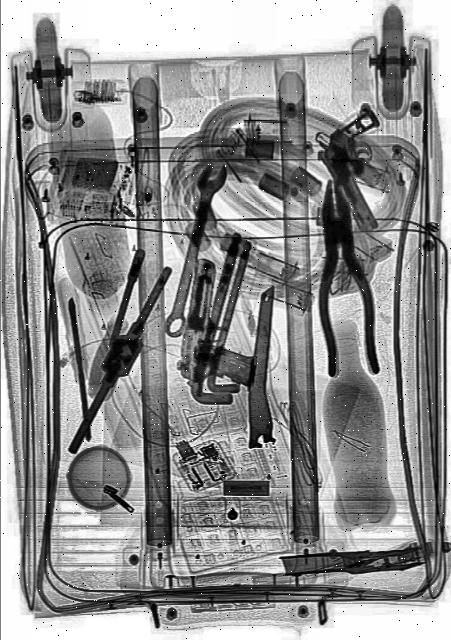Gun: (315, 98, 421, 240), (177, 253, 271, 397)
Pliers: (310, 174, 380, 380)
Wrench: (160, 156, 228, 342)
